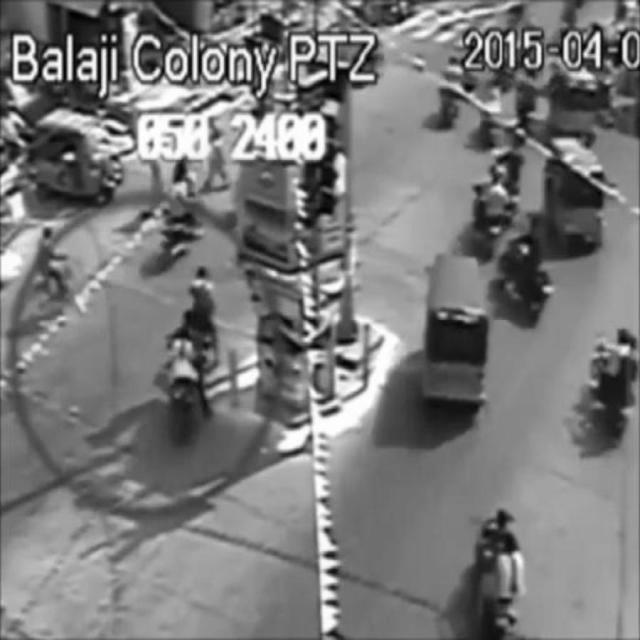accident: (152, 260, 229, 427)
vehicle: (426, 249, 487, 413), (472, 497, 536, 638), (36, 104, 122, 206), (545, 141, 605, 245), (150, 151, 206, 253), (593, 328, 639, 441), (506, 227, 552, 319), (473, 164, 513, 257)
